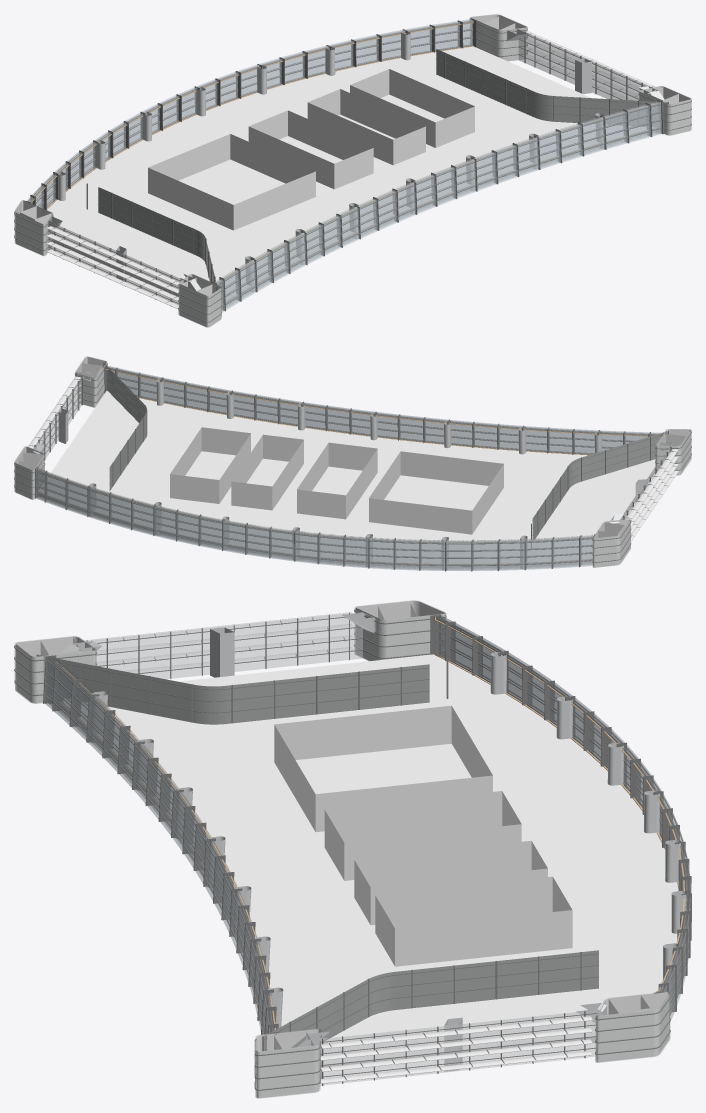
The picture shows the model from 3 angles, top to bottom: view 1: azimuth 30°, elevation 25°; view 2: azimuth 150°, elevation 25°; view 3: azimuth 270°, elevation 25°; orthographic projection. The views are drawn at different scales.
Parts seen in each view (by area): view 1: floor.016; view 2: floor.016; view 3: floor.016.
Part boxes in pixels (x1,y1,x2,y2): floor.016: (14, 14, 691, 327); floor.016: (14, 356, 691, 571); floor.016: (14, 600, 691, 1098).
Size of the model in its own units: 81.83 by 3.93 by 51.83.
14 materials, 1 textured.
